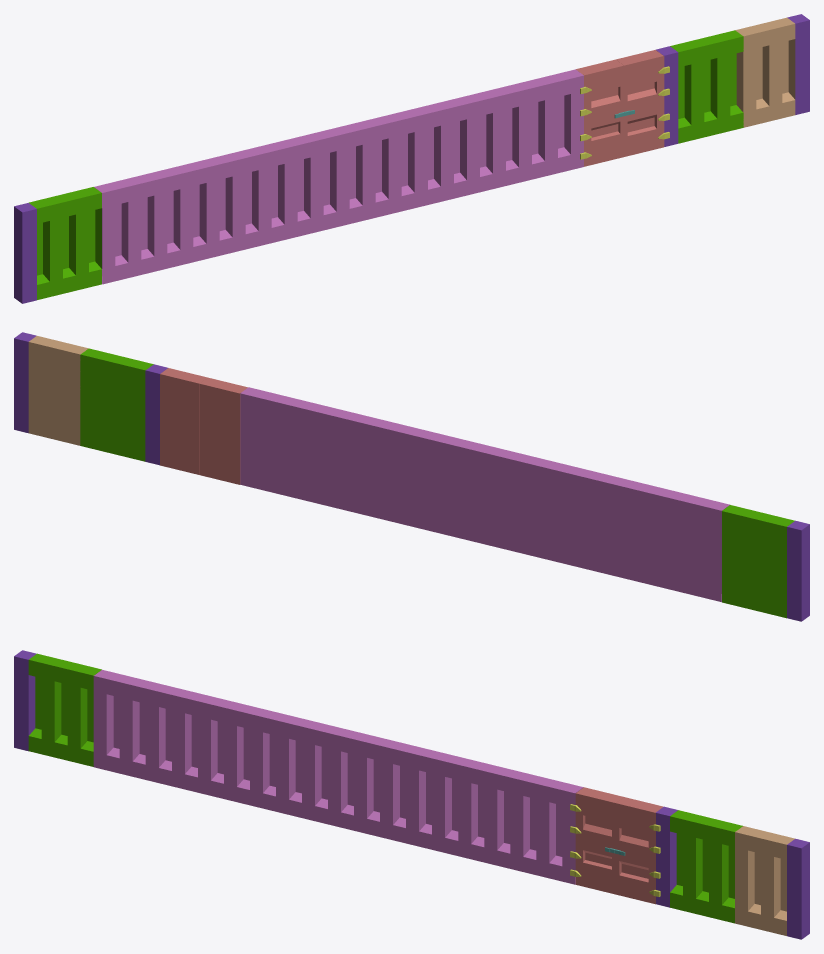
File: back_Wall.fbx
3 renders of one model, top to bottom at view 1: azimuth 30°, elevation 25°; view 2: azimuth 150°, elevation 25°; view 3: azimuth 330°, elevation 25°, orthographic.
Parts seen in each view (by area): view 1: pPlane9, pPlane11, pPlane12, pPlane13, pPlane7, pPlane10, pCube31, pCube32, pCube37; view 2: pPlane9, pPlane12, pPlane11, pPlane13, pPlane10, pPlane7, pCube31, pCube37, pCube32; view 3: pPlane9, pPlane11, pPlane12, pPlane13, pPlane10, pPlane7, pCube32, pCube31, pCube37.
Part boxes in pixels (x1,y1,x2,y2): pPlane9: (94, 69, 583, 284); pPlane11: (29, 187, 101, 299); pPlane12: (670, 30, 743, 143); pPlane13: (735, 17, 795, 127); pPlane7: (616, 50, 664, 156); pPlane10: (576, 59, 623, 166); pCube31: (14, 203, 36, 303); pCube32: (787, 14, 809, 114); pCube37: (656, 46, 678, 146); pPlane9: (240, 387, 729, 602); pPlane12: (80, 348, 153, 461); pPlane11: (722, 505, 794, 618); pPlane13: (28, 336, 88, 445); pPlane10: (200, 377, 247, 484); pPlane7: (160, 368, 207, 474); pCube31: (787, 520, 809, 621); pCube37: (145, 364, 167, 465); pCube32: (14, 332, 36, 433); pPlane9: (93, 669, 583, 884); pPlane11: (28, 653, 101, 766); pPlane12: (670, 810, 742, 923); pPlane13: (735, 826, 794, 935); pPlane10: (575, 787, 623, 894); pPlane7: (615, 797, 663, 904); pCube32: (787, 838, 809, 939); pCube31: (14, 650, 36, 751); pCube37: (656, 806, 677, 907).
Bounding box in the file's own units: 27.03 × 3 × 0.5805.
